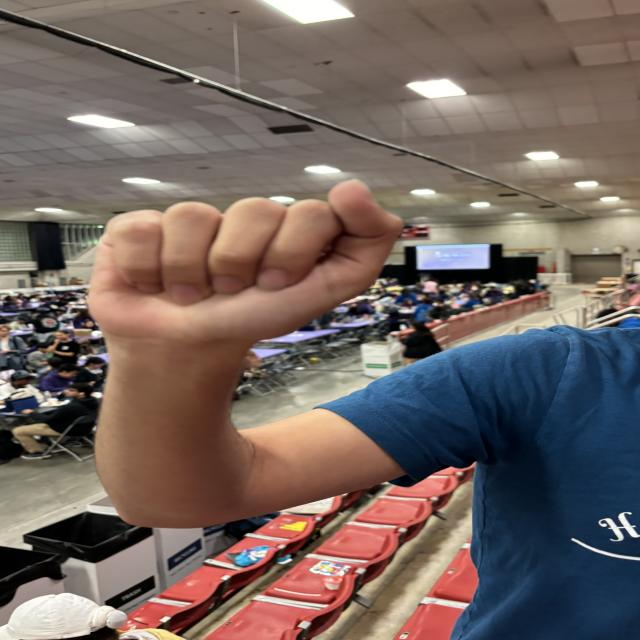A: (48, 172, 446, 365)
